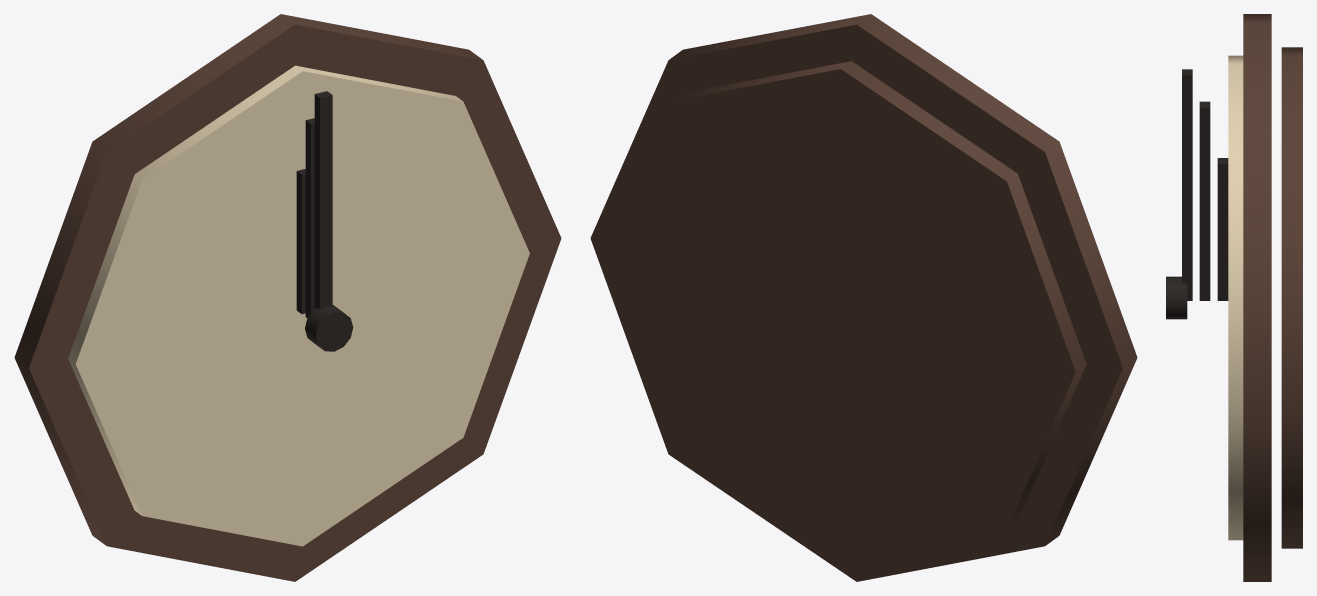
3 renders of one model, left to right at view 1: azimuth 30°, elevation 25°; view 2: azimuth 150°, elevation 25°; view 3: azimuth 270°, elevation 25°, orthographic.
Visible parts, largest first — view 1: clock-face, clock-octagon-bezel, clock-second-hand, clock-minute-hand, clock-center-cap, clock-hour-hand; view 2: clock-back, clock-octagon-bezel; view 3: clock-octagon-bezel, clock-back, clock-face, clock-second-hand, clock-minute-hand, clock-hour-hand, clock-center-cap.
Part boxes in pixels (x1=…): clock-face: x1=68, y1=65, x2=529, y2=546; clock-octagon-bezel: x1=14, y1=14, x2=561, y2=581; clock-second-hand: x1=314, y1=91, x2=332, y2=309; clock-minute-hand: x1=305, y1=118, x2=314, y2=317; clock-center-cap: x1=305, y1=305, x2=353, y2=351; clock-hour-hand: x1=296, y1=169, x2=305, y2=314; clock-back: x1=606, y1=61, x2=1086, y2=560; clock-octagon-bezel: x1=590, y1=14, x2=1137, y2=581; clock-octagon-bezel: x1=1243, y1=14, x2=1271, y2=581; clock-back: x1=1281, y1=47, x2=1302, y2=548; clock-face: x1=1228, y1=55, x2=1243, y2=540; clock-second-hand: x1=1182, y1=69, x2=1192, y2=300; clock-minute-hand: x1=1199, y1=101, x2=1210, y2=300; clock-hour-hand: x1=1217, y1=158, x2=1228, y2=300; clock-center-cap: x1=1166, y1=276, x2=1187, y2=319.
Size of the model in its own units: 0.34 by 0.34 by 0.077.
